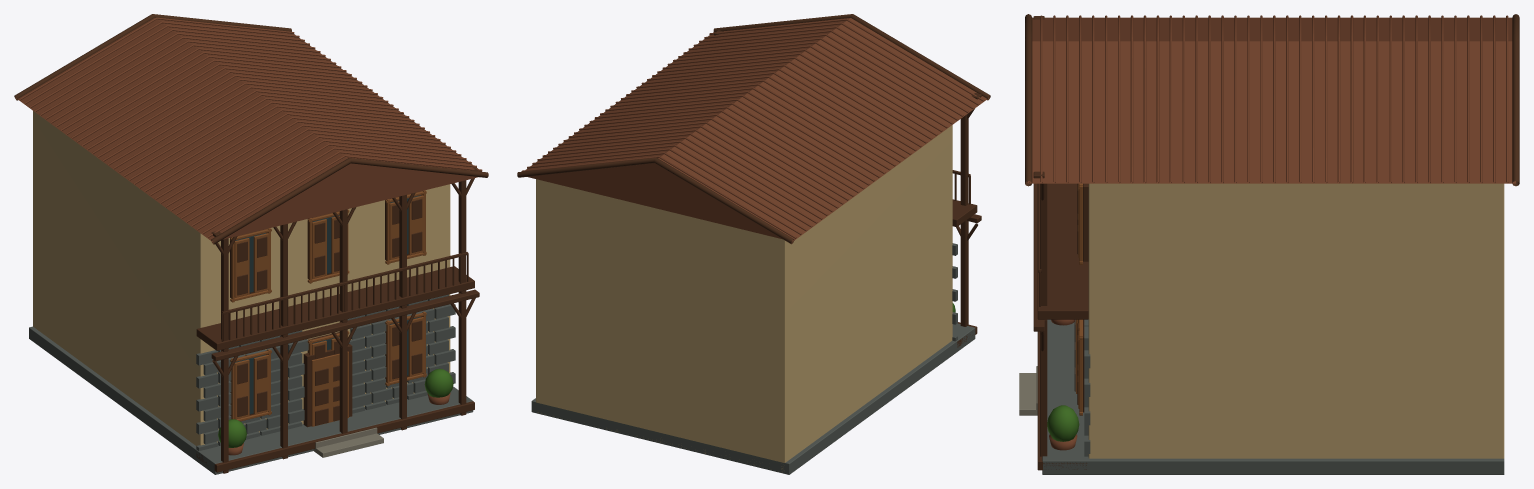
File: tiled-bungalow.glb
3 views of the same model, side by side, from view 1: azimuth 30°, elevation 25°; view 2: azimuth 150°, elevation 25°; view 3: azimuth 270°, elevation 25° (orthographic). The views are drawn at different scales.
Parts seen in each view (by area): view 1: Surface_Roof_tiles, Surface_Lime_plaster, Surface_Timber, Surface_Basalt, Surface_Painted_joinery, Surface_Recessed_glazing, Surface_Foliage, Surface_Stone_paving; view 2: Surface_Lime_plaster, Surface_Roof_tiles, Surface_Basalt, Surface_Timber; view 3: Surface_Lime_plaster, Surface_Roof_tiles, Surface_Timber, Surface_Basalt, Surface_Painted_joinery, Surface_Foliage, Surface_Stone_paving.
Boxes of the visible parts, x1,y1,x2,y2 form: Surface_Roof_tiles: (16,17,482,455); Surface_Lime_plaster: (33,111,450,445); Surface_Timber: (14,14,488,473); Surface_Basalt: (29,294,473,474); Surface_Painted_joinery: (230,190,426,426); Surface_Recessed_glazing: (235,195,420,414); Surface_Foliage: (218,368,453,447); Surface_Stone_paving: (313,427,383,457); Surface_Lime_plaster: (536,125,952,472); Surface_Roof_tiles: (521,18,989,241); Surface_Basalt: (531,243,975,474); Surface_Timber: (517,14,990,347); Surface_Lime_plaster: (1088,183,1504,458); Surface_Roof_tiles: (1027,15,1515,450); Surface_Timber: (1025,14,1519,470); Surface_Basalt: (1042,319,1504,474); Surface_Painted_joinery: (1076,183,1082,415); Surface_Foliage: (1047,405,1079,441); Surface_Stone_paving: (1019,366,1037,415).
Bounding box in the file's own units: 8.55 × 8.58 × 10.83.
